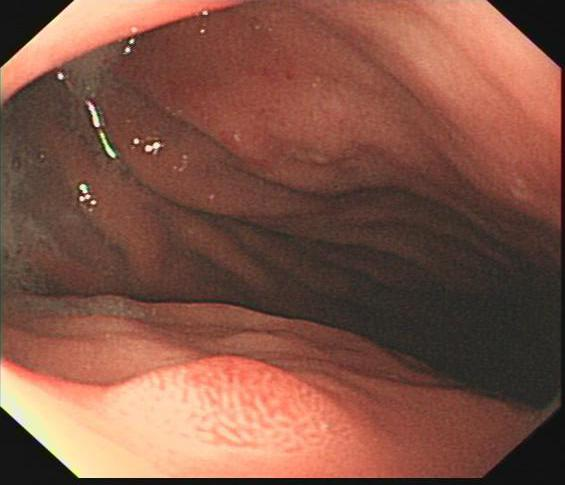Polyp: (91, 354, 353, 457)
